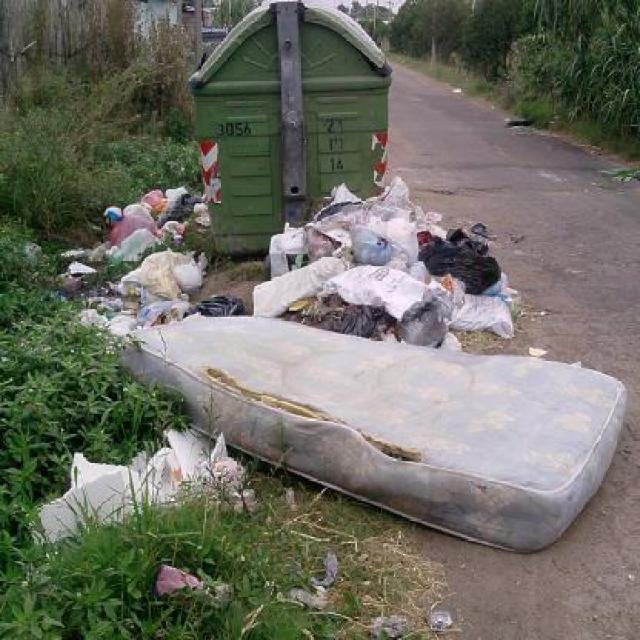garbage: (262, 192, 496, 338), (45, 435, 244, 550), (86, 172, 203, 330)
